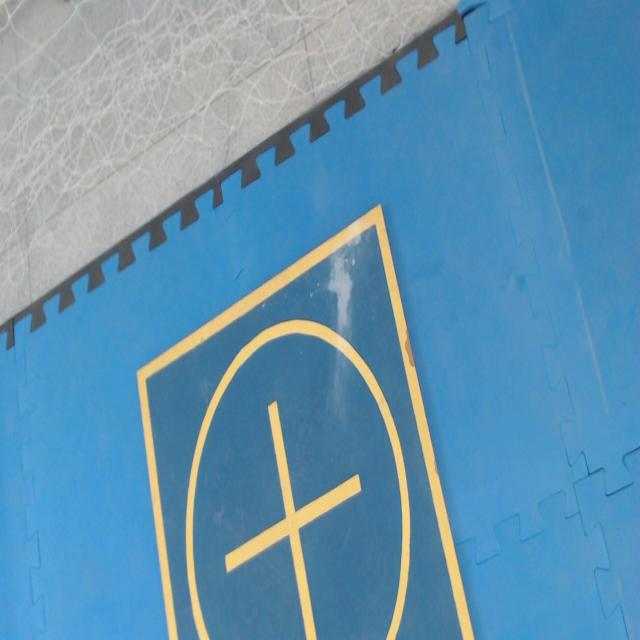base_pouso: (136, 204, 475, 639)
